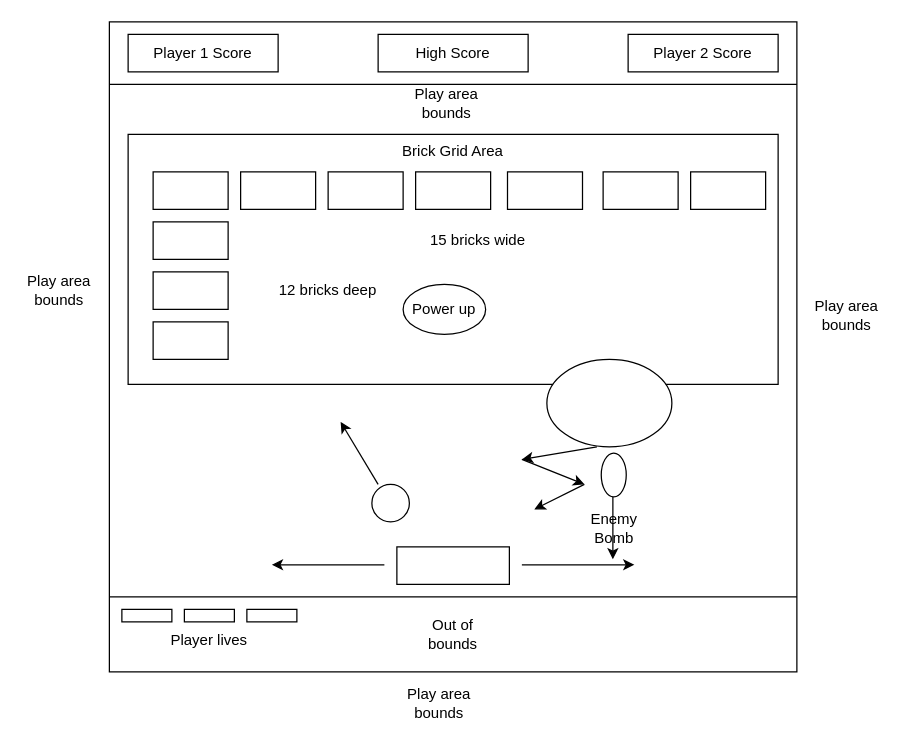
The diagram is 905 pixels wide and 744 high, and some of its shapes have lost their labels. The centre of each missing label's shape, as x and y in pixels:
Ball: point 390,502
Enemy: point 609,402
Player: point 452,565
